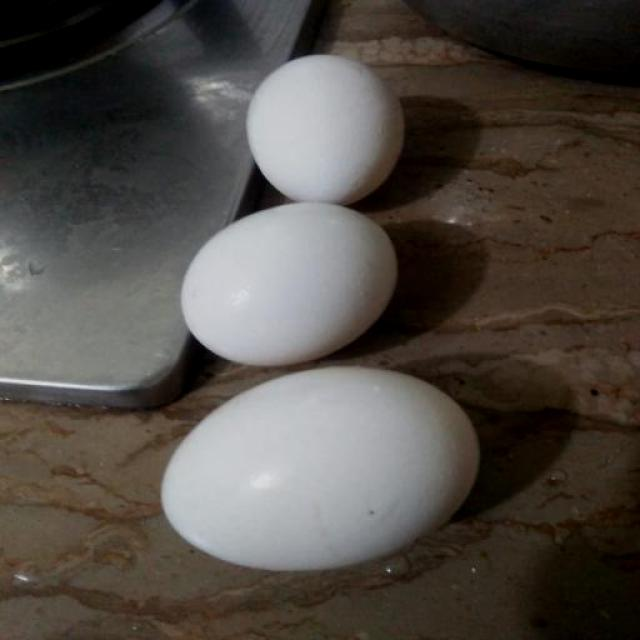telur: (163, 365, 479, 570), (181, 202, 397, 366), (245, 54, 402, 204)
